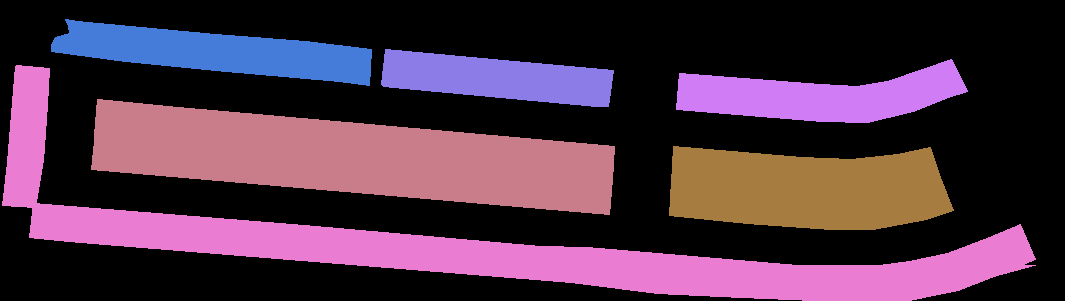parkingspot: (29, 203, 1035, 301), (91, 131, 612, 214), (94, 99, 614, 180), (51, 19, 371, 85), (676, 59, 967, 122), (669, 177, 953, 229), (671, 146, 941, 195), (381, 49, 613, 106), (2, 65, 49, 207)
